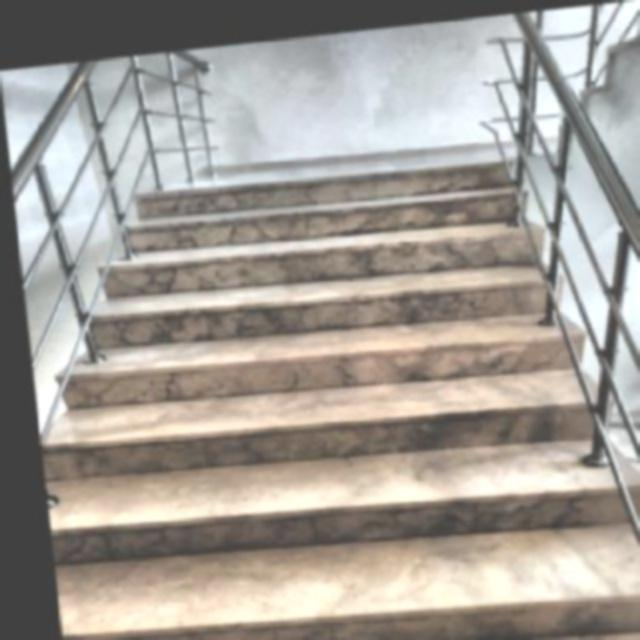stair: (11, 136, 640, 638)
